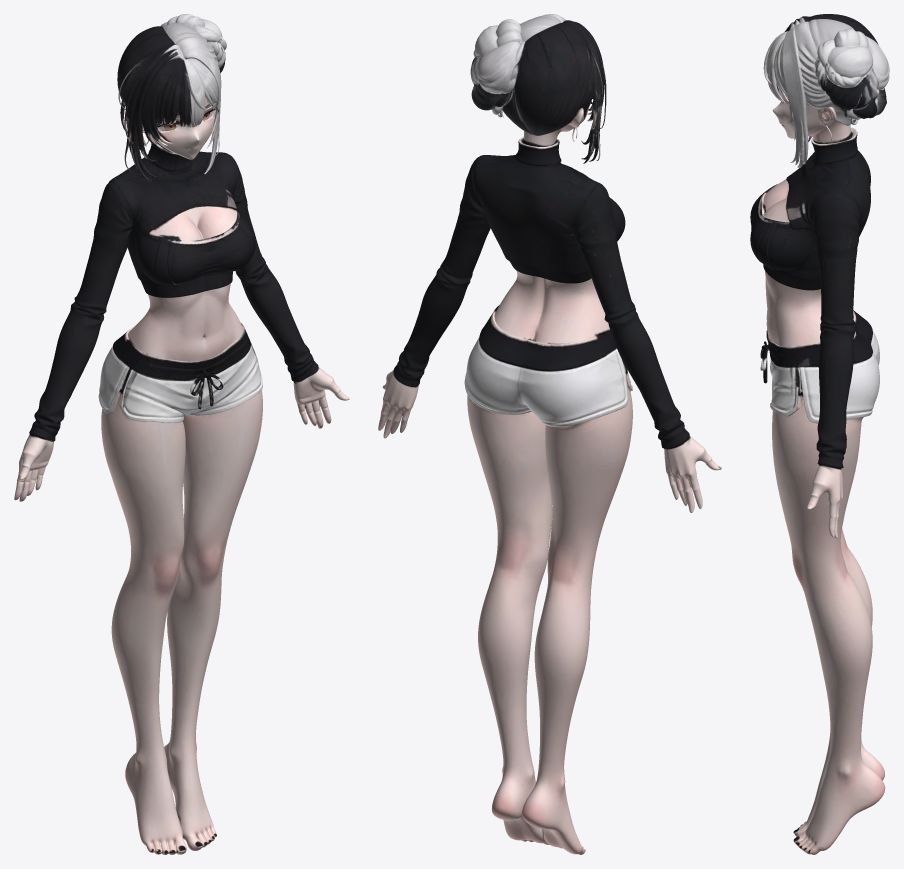
Rendered from byakuyamodel.glb.
The picture shows the model from 3 angles, left to right: view 1: azimuth 30°, elevation 25°; view 2: azimuth 150°, elevation 25°; view 3: azimuth 270°, elevation 25°; orthographic projection. The views are drawn at different scales.
Size of the model in its own units: 0.8064 by 1.9 by 0.2913.
Materials: 1 (1 with a texture image).
